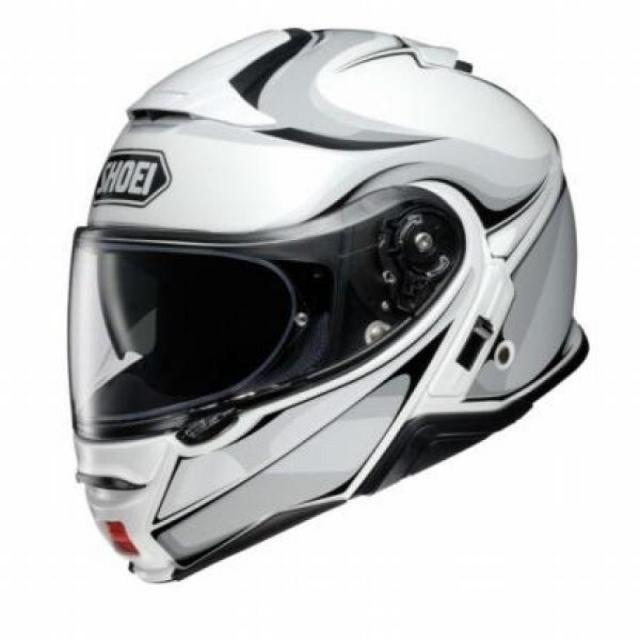Helmet: (67, 32, 593, 575)
